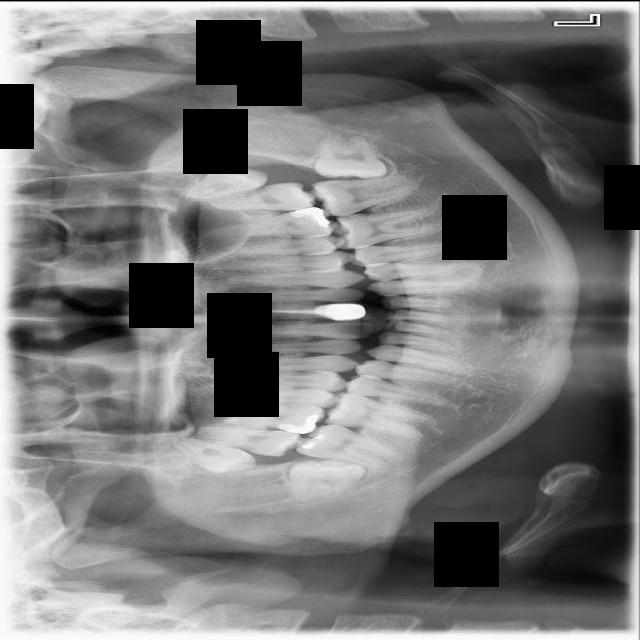3M ESPE Implant: (167, 432, 259, 481)
52: (289, 198, 333, 228), (276, 412, 323, 440), (315, 300, 373, 320), (301, 439, 316, 451), (314, 431, 324, 440)
73: (261, 304, 319, 319), (576, 62, 585, 66)
BioHorizons Implant: (204, 181, 317, 212)
BioLife Implant: (179, 154, 270, 208)
Biomet 3i Implant: (314, 131, 389, 182)
Blue Sky Bio Implant: (308, 173, 416, 218)
Caries: (195, 423, 306, 459)
Implant: (294, 416, 404, 472)
Keystone Dental Implant: (287, 454, 367, 503)
